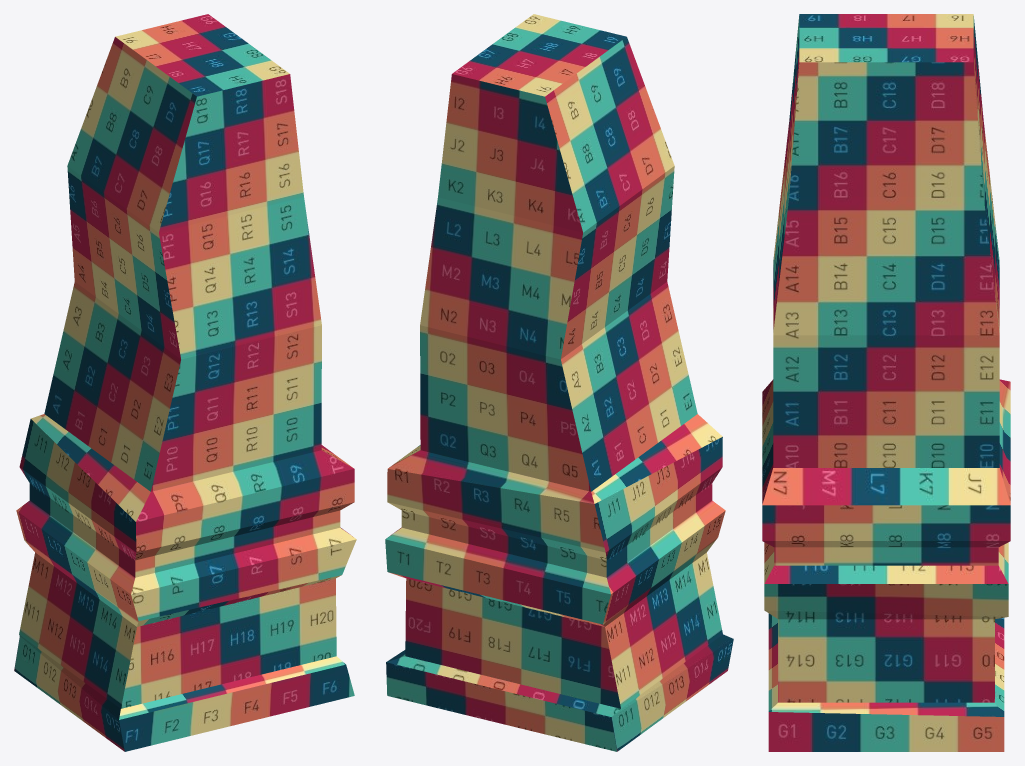
The model's file is Piliier_06_low.FBX.
The picture shows the model from 3 angles, left to right: view 1: azimuth 30°, elevation 25°; view 2: azimuth 150°, elevation 25°; view 3: azimuth 270°, elevation 25°; orthographic projection. The views are drawn at different scales.
Parts seen in each view (by area): view 1: Pilier_006; view 2: Pilier_006; view 3: Pilier_006.
Part boxes in pixels (left/top/right/bottom): Pilier_006: left=14, top=14, right=356, bottom=751; Pilier_006: left=385, top=14, right=733, bottom=751; Pilier_006: left=762, top=14, right=1010, bottom=751.
Size of the model in its own units: 1.62 by 4.08 by 1.39.
